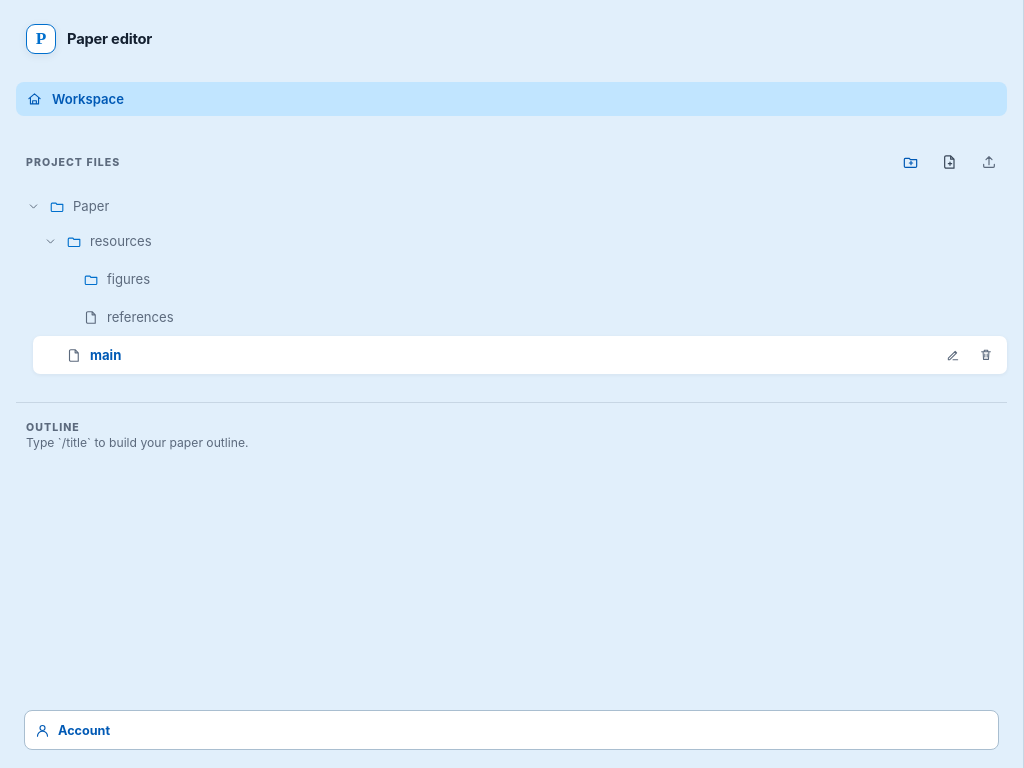
it: ProjectSidebar › collapses and expands project folders
What coordinates should you click on to do the following:
click the button with aria-label "Paper folder"
I would click on:
 (91, 206)
Its box is [25,195,1002,217].
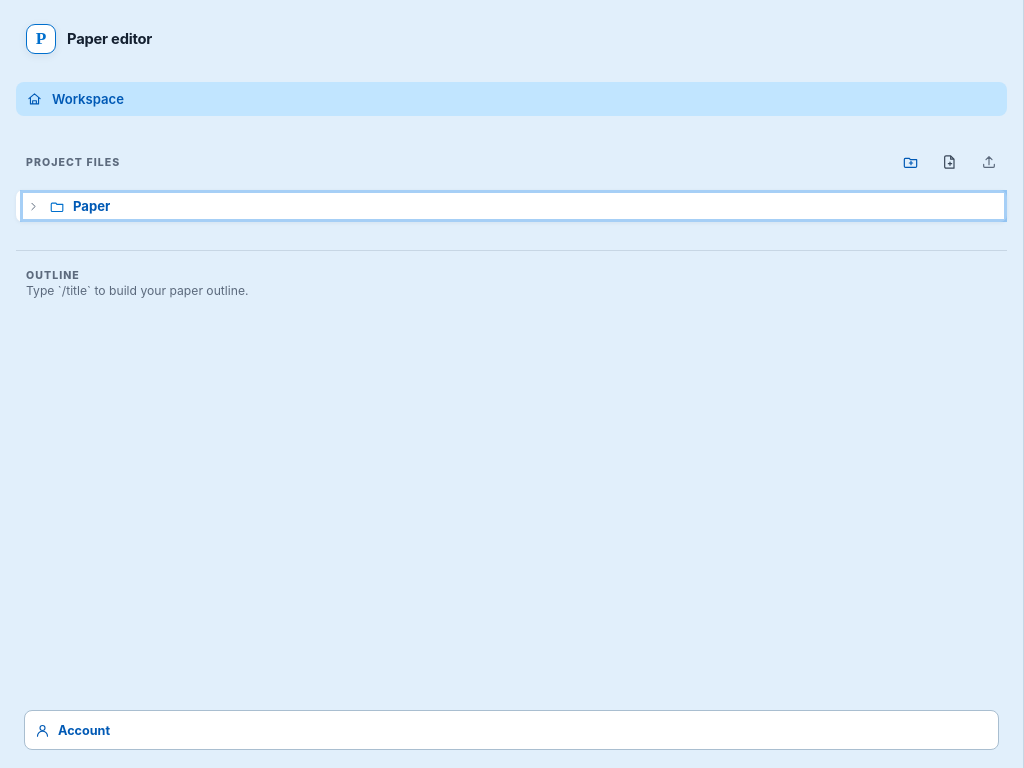
What coordinates should you click on to do the following:
click the button with aria-label "Paper folder"
I would click on:
 (92, 206)
Its box is [25,195,1002,217].
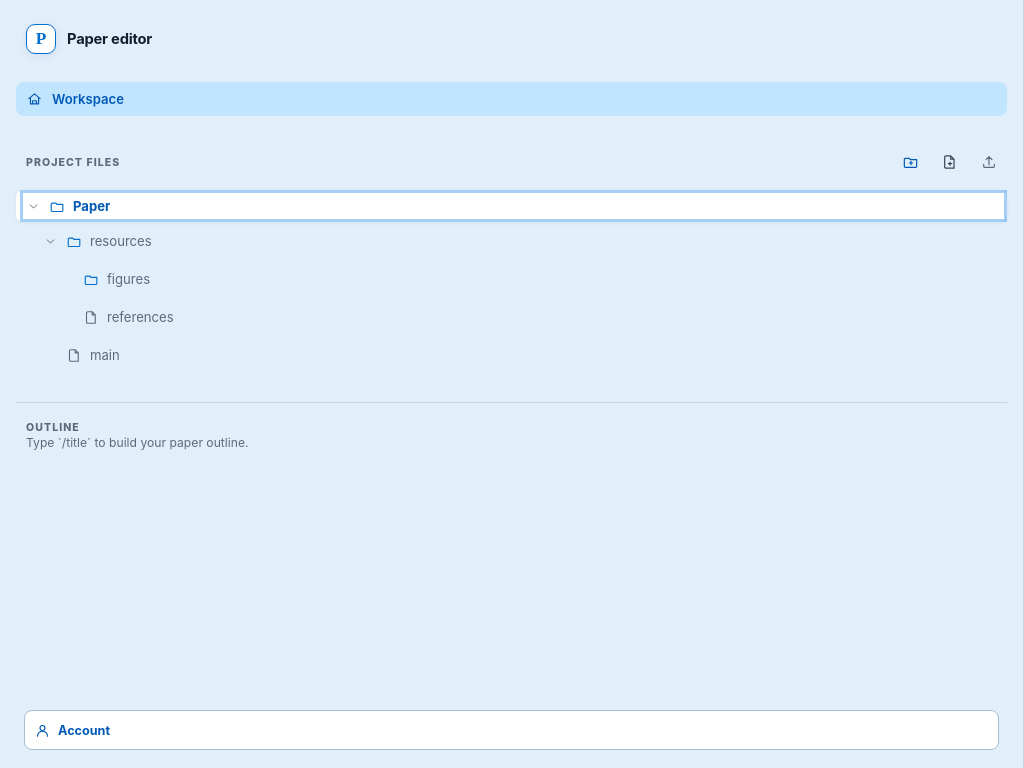
Check: the button with aria-label "main file" is shown, box [42,344,930,366]
